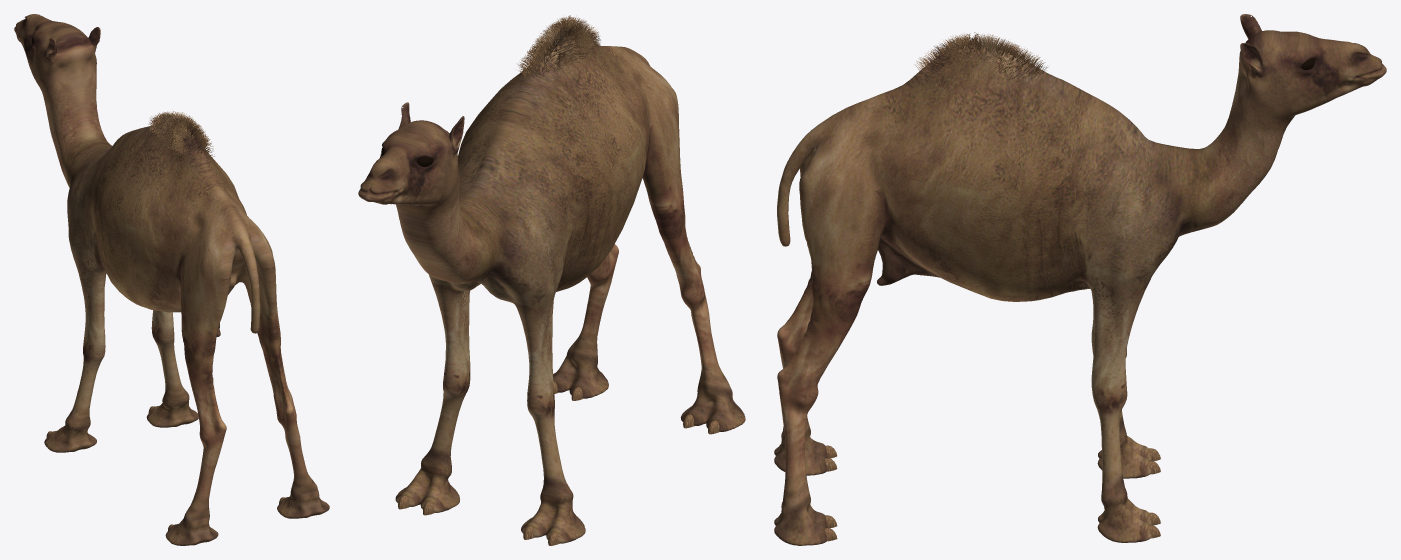
File: camel.fbx
The picture shows the model from 3 angles, left to right: view 1: azimuth 30°, elevation 25°; view 2: azimuth 150°, elevation 25°; view 3: azimuth 270°, elevation 25°; orthographic projection. The views are drawn at different scales.
Visible parts, largest first — view 1: DROMEDAR, D PELO; view 2: DROMEDAR, D PELO; view 3: DROMEDAR, D PELO.
Part boxes in pixels (x1,y1,x2,y2): DROMEDAR: (14,14,329,545); D PELO: (148,111,214,159); DROMEDAR: (358,27,745,543); D PELO: (517,15,600,80); DROMEDAR: (774,14,1386,545); D PELO: (915,32,1047,84).
Bounding box in the file's own units: 42349 × 94614 × 111393.
Materials: 3 (2 with a texture image).
